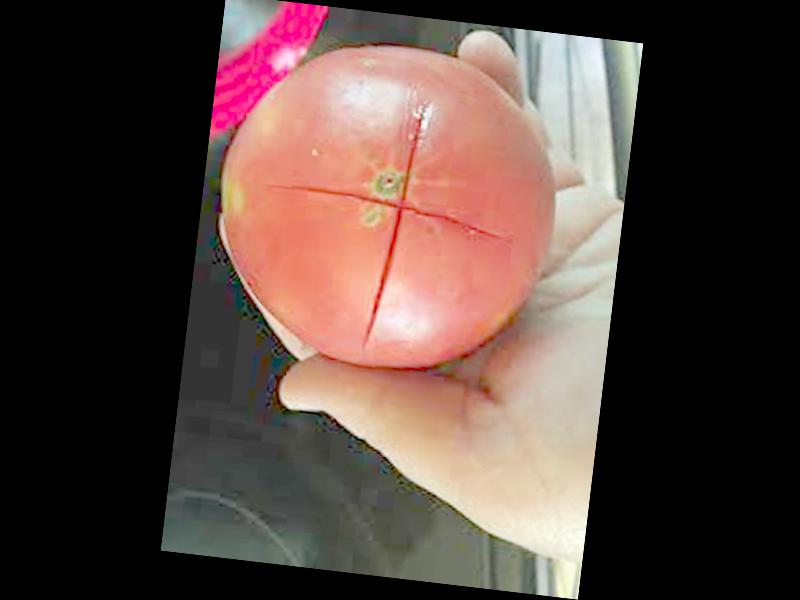Tomato: (204, 26, 573, 387)
